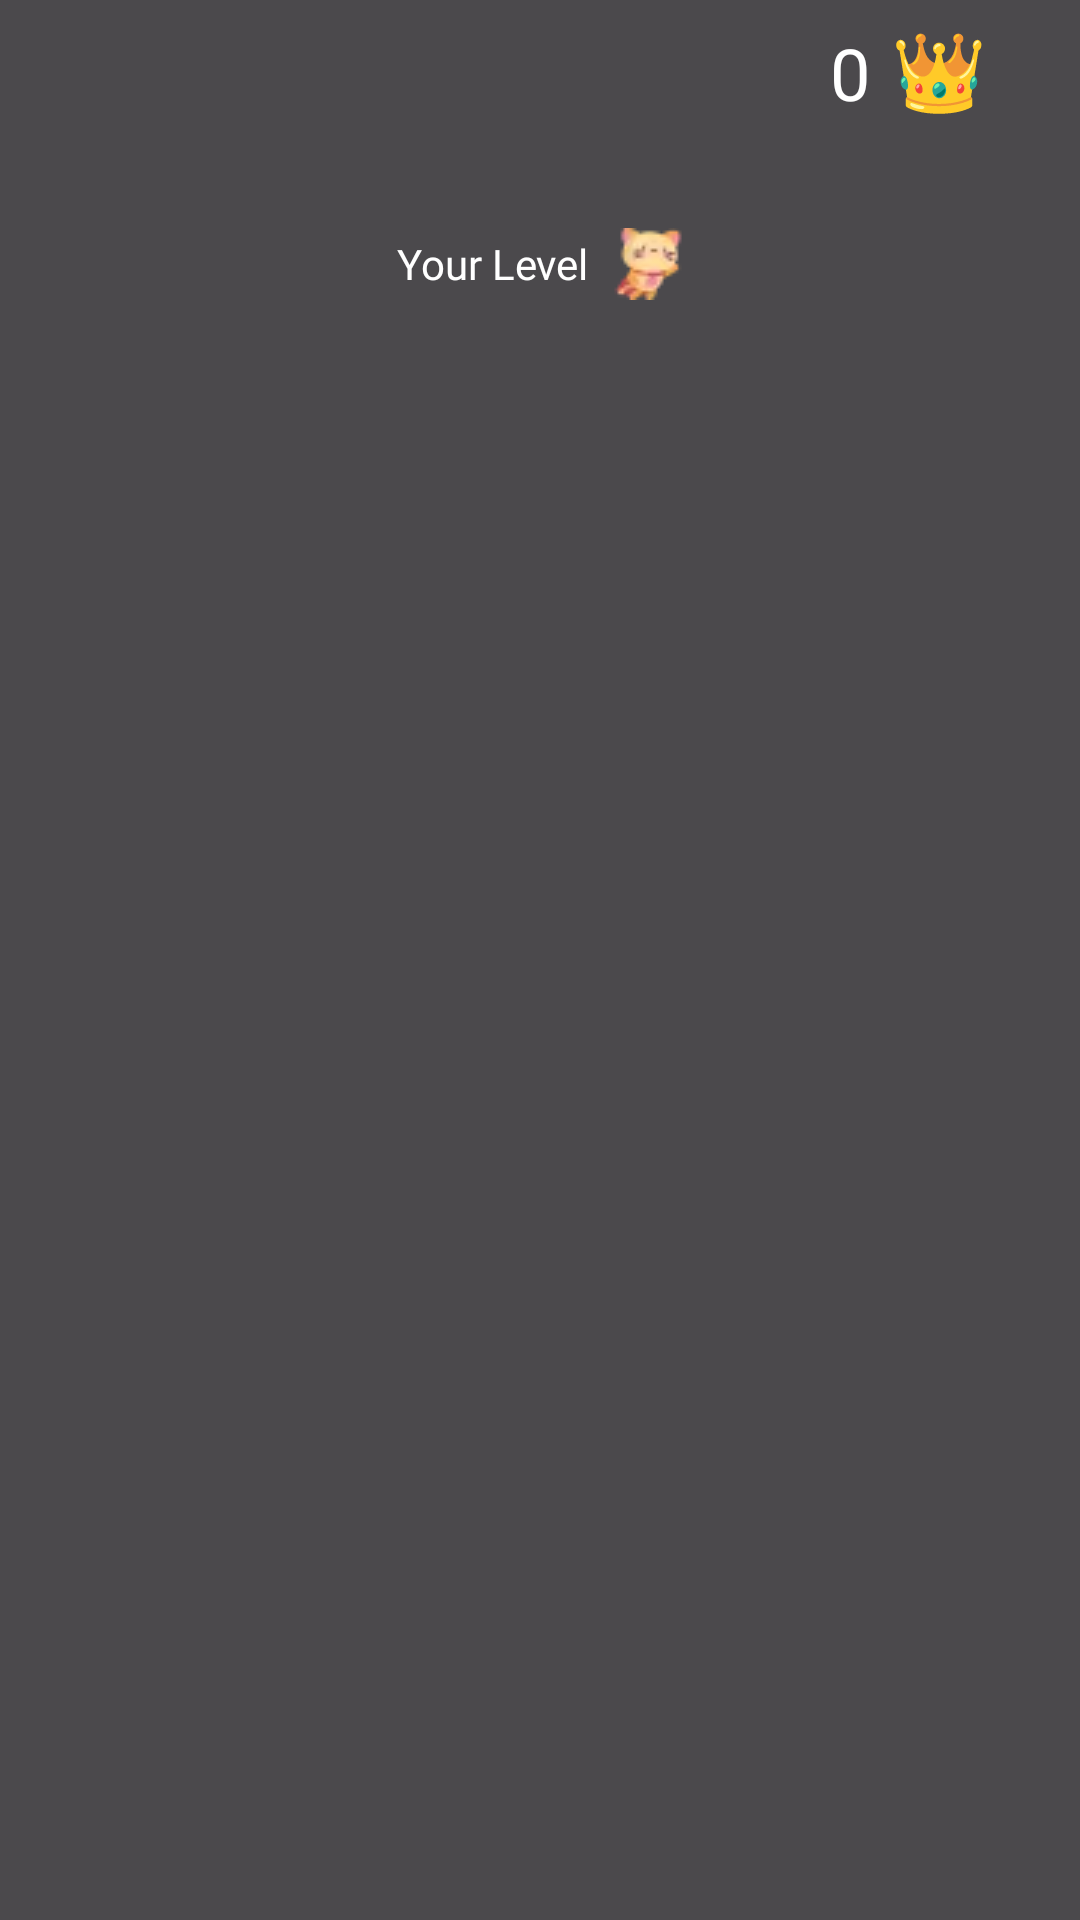

Locate icon controls on the screen. Image size 1080×1920, boxes as (x1, y1, x2, y2).
crown: (896, 33, 982, 114)
